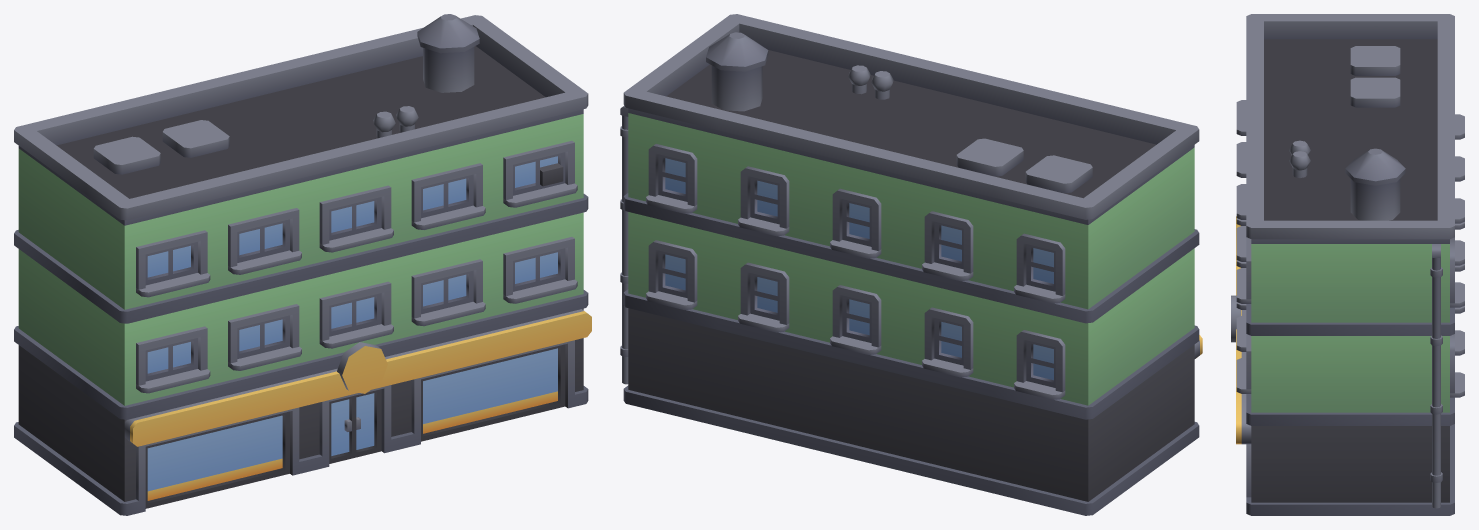
Rendered from building-k.glb.
3 renders of one model, left to right at view 1: azimuth 30°, elevation 25°; view 2: azimuth 150°, elevation 25°; view 3: azimuth 270°, elevation 25°, orthographic. The views are drawn at different scales.
Visible parts, largest first — view 1: building-k; view 2: building-k; view 3: building-k.
Boxes of the visible parts, left/top/right/bottom form: building-k: left=14, top=14, right=591, bottom=515; building-k: left=620, top=14, right=1202, bottom=515; building-k: left=1231, top=14, right=1464, bottom=515.
Bounding box in the file's own units: 2.08 × 1.47 × 0.942.
Materials: 1 (1 with a texture image).
